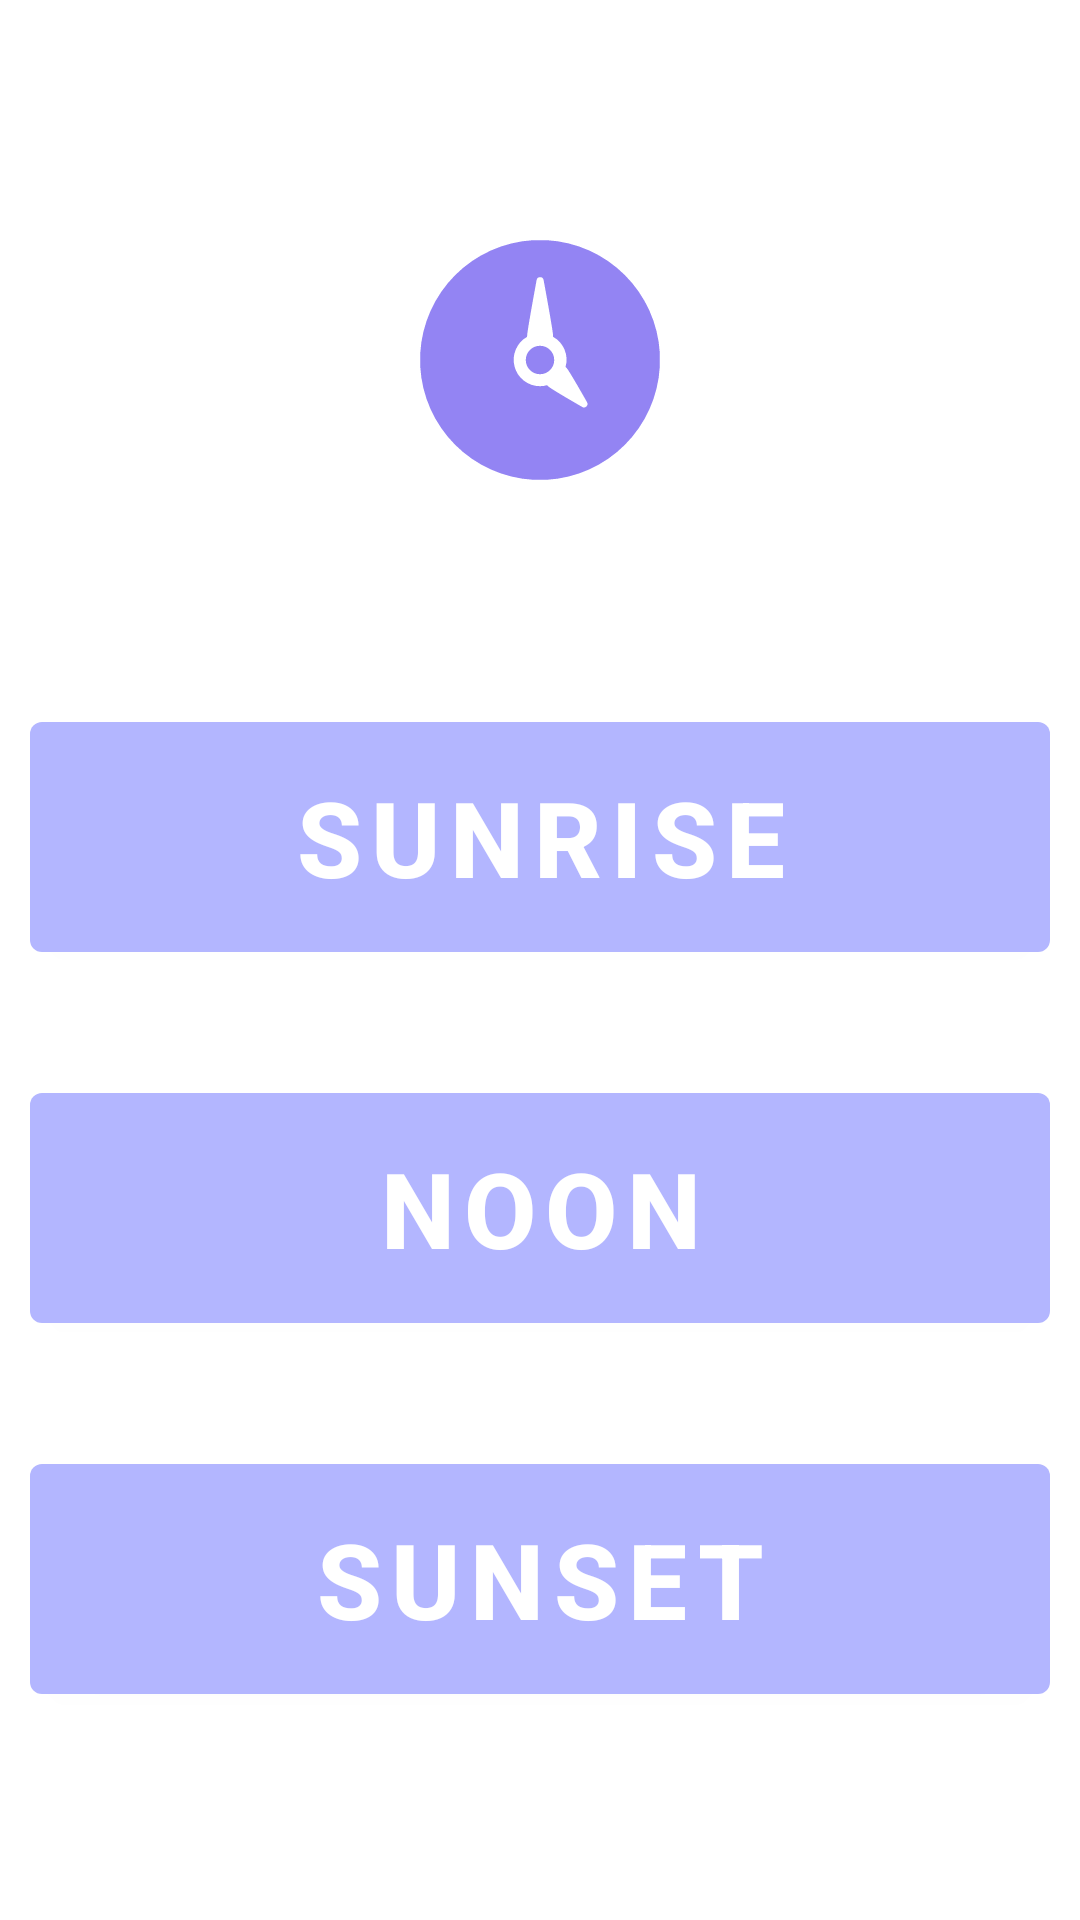

Named icons in this screenshot (1080 × 1920) and their bounding boxes, (x1, y1, x2, y2):
Timetable: (420, 240, 660, 480)
